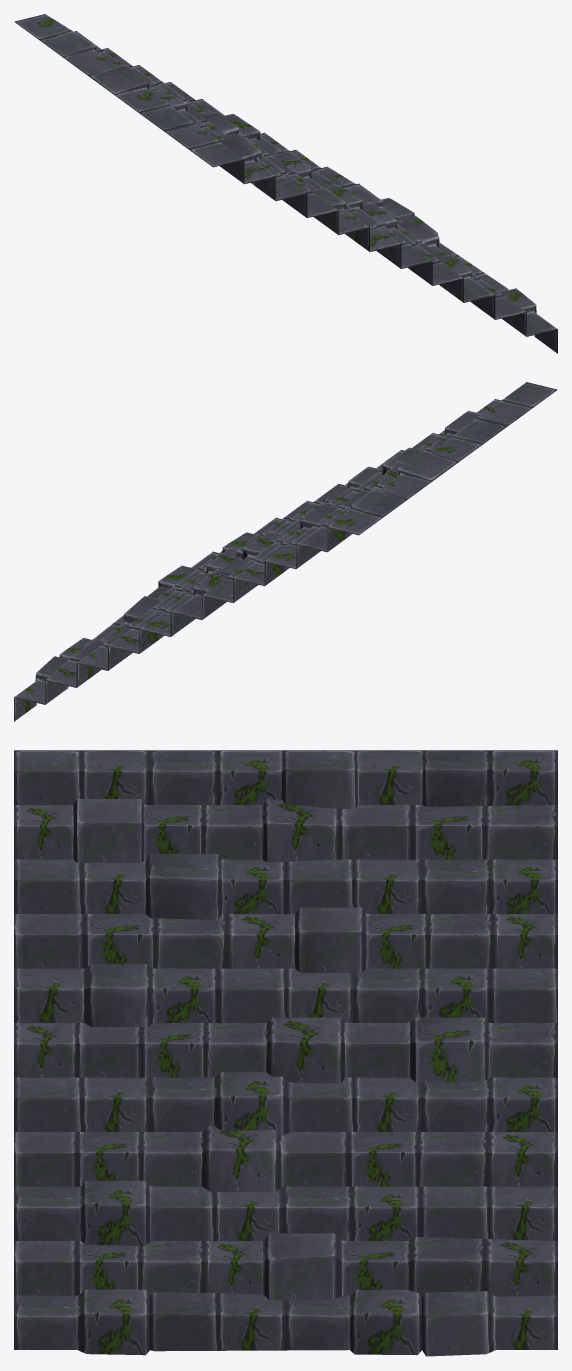
File: MOD_Stairs_01_E_straight_2.fbx
The picture shows the model from 3 angles, top to bottom: view 1: azimuth 30°, elevation 25°; view 2: azimuth 150°, elevation 25°; view 3: azimuth 270°, elevation 25°; orthographic projection. The views are drawn at different scales.
Visible parts, largest first — view 1: MOD_Stairs_01_E_straight_2; view 2: MOD_Stairs_01_E_straight_2; view 3: MOD_Stairs_01_E_straight_2.
Boxes of the visible parts, x1,y1,x2,y2 form: MOD_Stairs_01_E_straight_2: [14, 14, 557, 353]; MOD_Stairs_01_E_straight_2: [14, 382, 557, 721]; MOD_Stairs_01_E_straight_2: [14, 750, 557, 1356].
Size of what is drawn, in the model's own units: 411 by 304 by 400.
